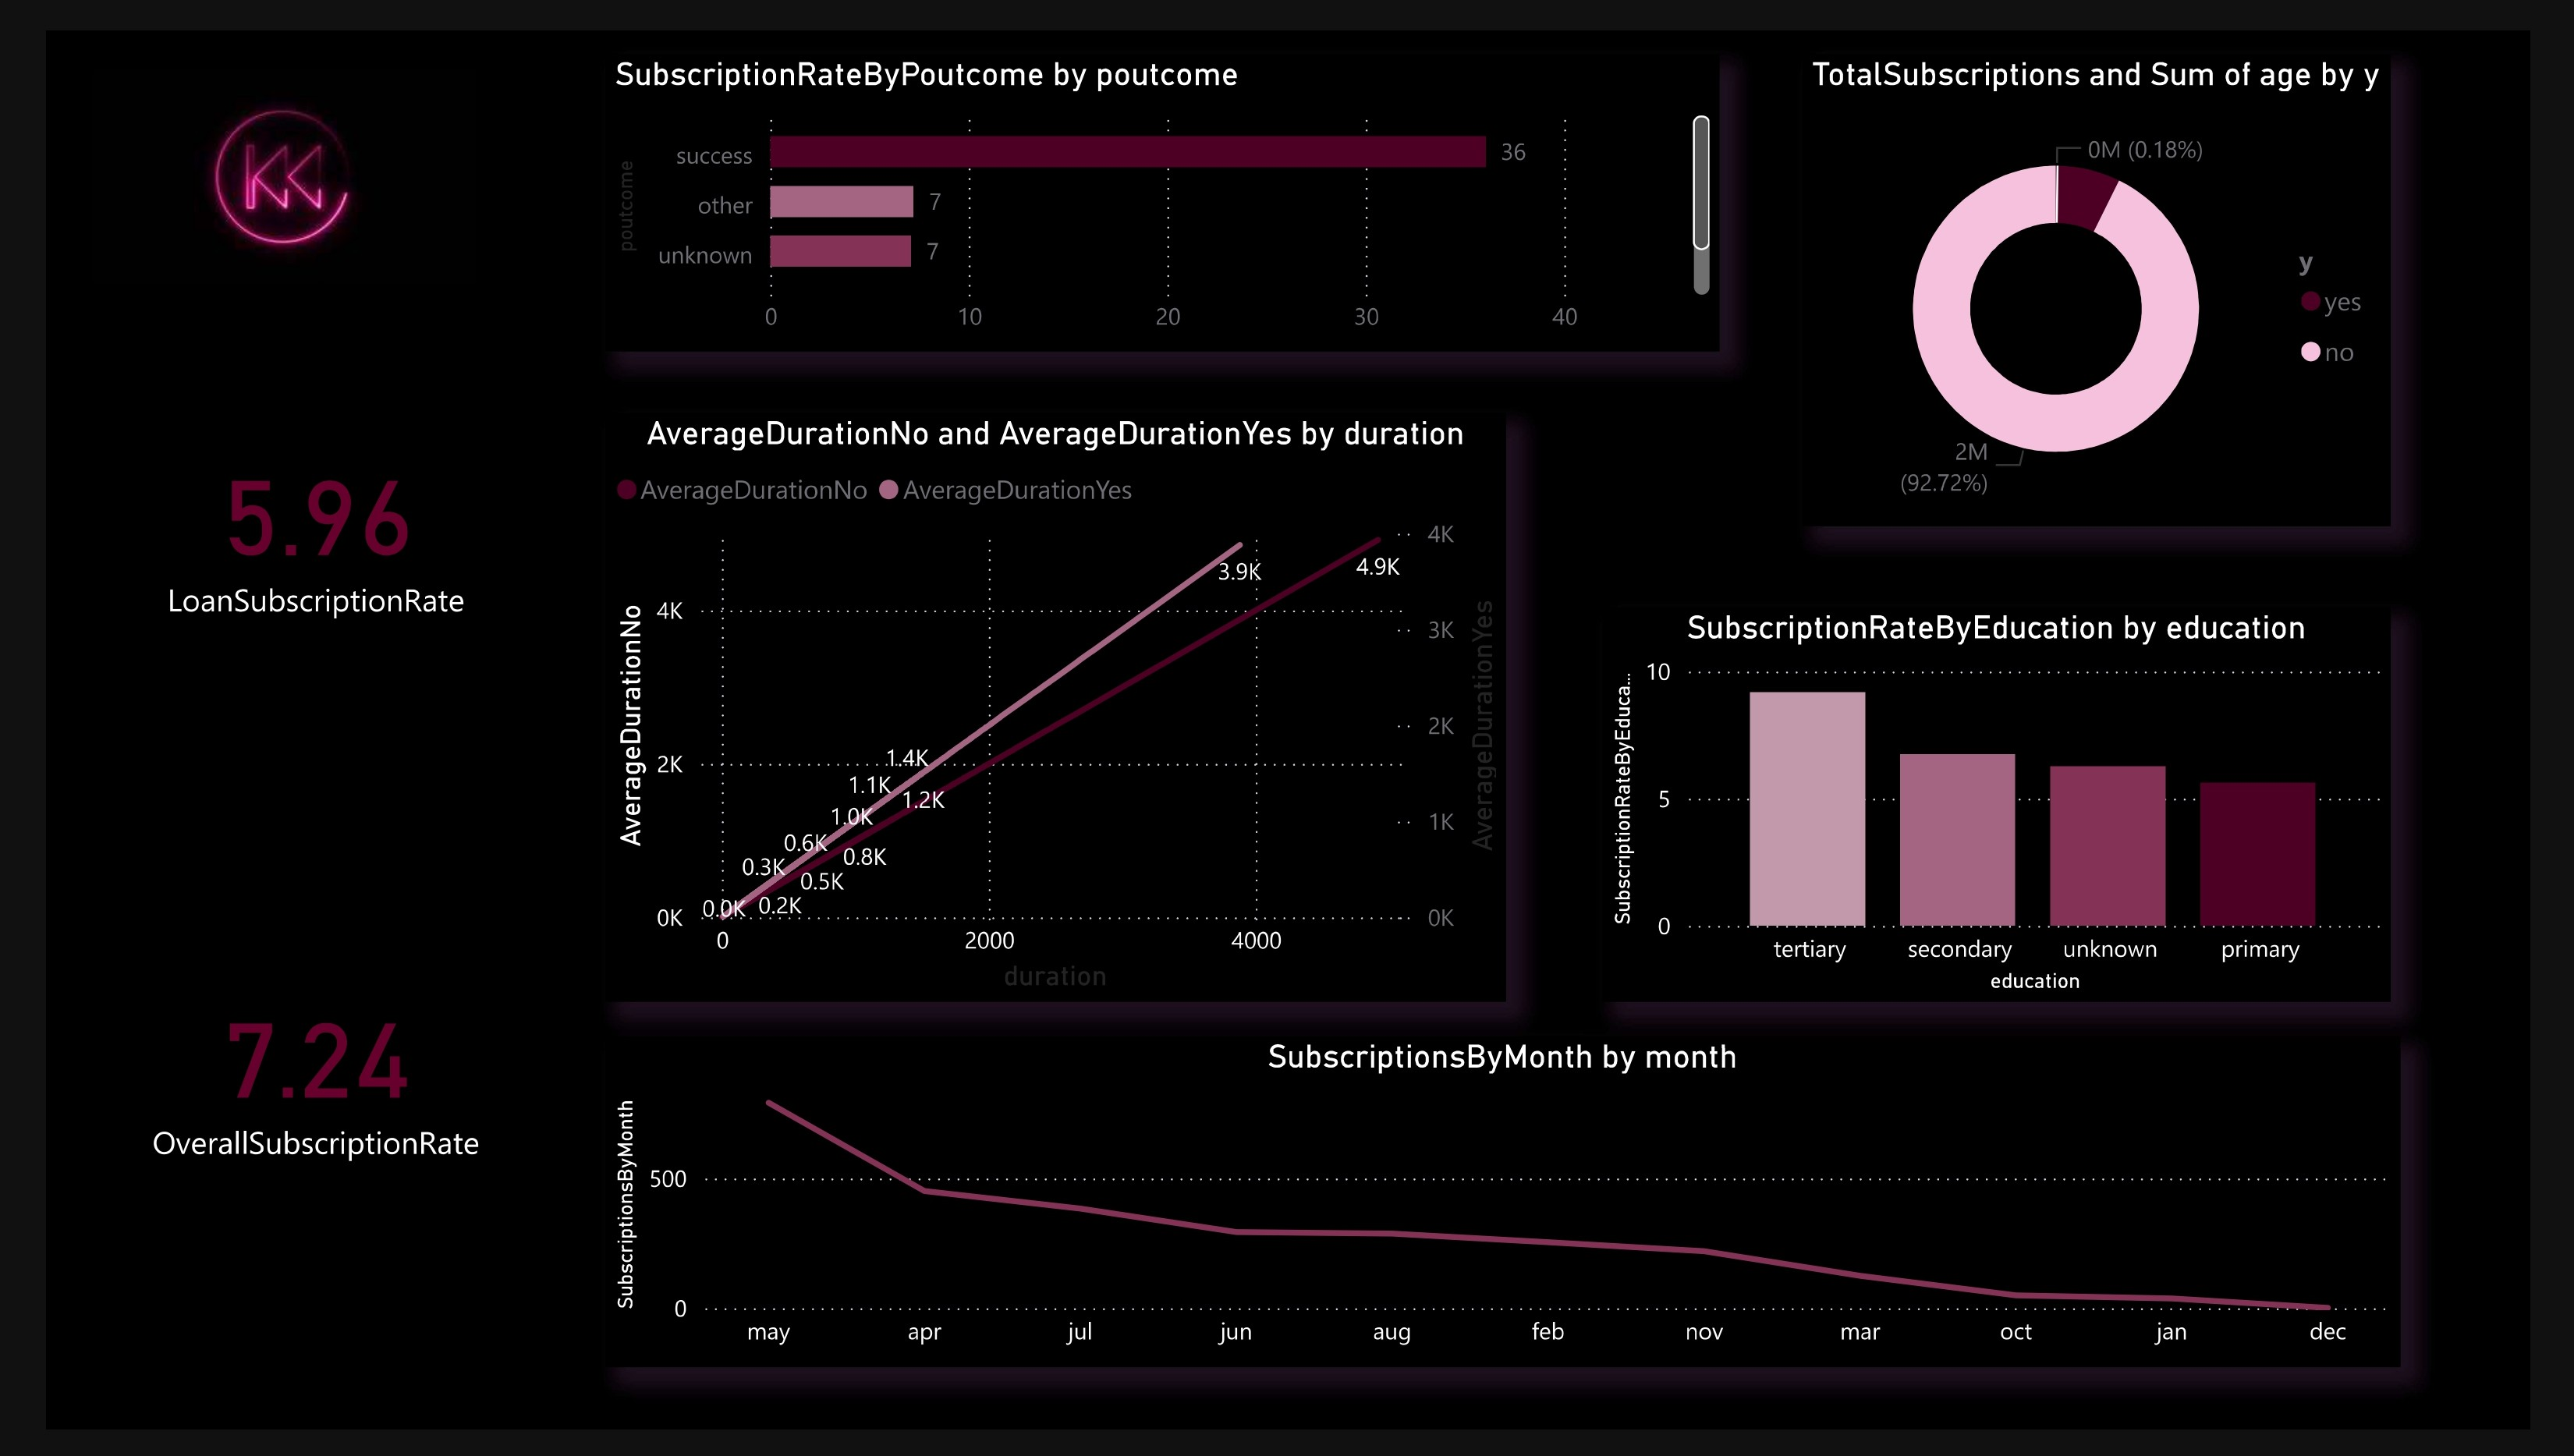

The page's visual inventory and layout, read from the dashboard file:
{"tool":"powerbi","page":{"name":"Page 2","canvas":[1280,720],"ordinal":1},"visuals":[{"type":"lineChart","fields":{"Category":["train.duration"],"Y":["train.AverageDurationNo"],"Y2":["train.AverageDurationYes"]},"box":[288.3,196.7,463.3,303.3],"z":0},{"type":"lineChart","fields":{"Category":["train.month"],"Y":["train.SubscriptionsByMonth"]},"box":[288.3,518.3,925,170],"z":1000},{"type":"card","fields":{"Values":["train.LoanSubscriptionRate"]},"box":[35,181.2,207.5,146.2],"z":2000},{"type":"columnChart","fields":{"Y":["train.SubscriptionRateByEducation"],"Category":["train.education"]},"box":[801.7,296.7,406.7,203.3],"z":3000},{"type":"card","fields":{"Values":["train.OverallSubscriptionRate"]},"box":[35,465,207.5,137.5],"z":4000},{"type":"image","box":[18.6,0,207.1,150],"z":5000},{"type":"donutChart","fields":{"Y":["train.TotalSubscriptions","Sum(train.age)"],"Category":["train.y"]},"box":[905,11.7,303.3,243.3],"z":6000},{"type":"barChart","fields":{"Category":["train.poutcome"],"Y":["train.SubscriptionRateByPoutcome"]},"box":[288.3,11.7,573.3,153.3],"z":7000}]}

Visuals, with their boxes in screenshot pixels (x1, y1, x2, y2), scaled from the page's 1280x720 canvas onto the 2574x1456 screenshot:
lineChart - train.duration x train.AverageDurationNo: (x1=580, y1=398, x2=1512, y2=1011)
lineChart - train.month x train.SubscriptionsByMonth: (x1=580, y1=1048, x2=2440, y2=1392)
card - train.LoanSubscriptionRate: (x1=70, y1=367, x2=487, y2=662)
columnChart - train.SubscriptionRateByEducation x train.education: (x1=1612, y1=600, x2=2430, y2=1011)
card - train.OverallSubscriptionRate: (x1=70, y1=941, x2=487, y2=1218)
image: (x1=37, y1=0, x2=454, y2=303)
donutChart - train.TotalSubscriptions x Sum(train.age): (x1=1820, y1=23, x2=2430, y2=515)
barChart - train.poutcome x train.SubscriptionRateByPoutcome: (x1=580, y1=23, x2=1732, y2=334)
